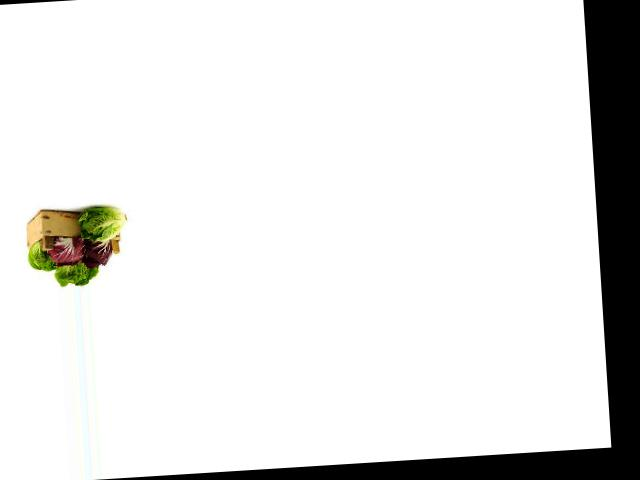lettuce: (53, 254, 99, 287)
